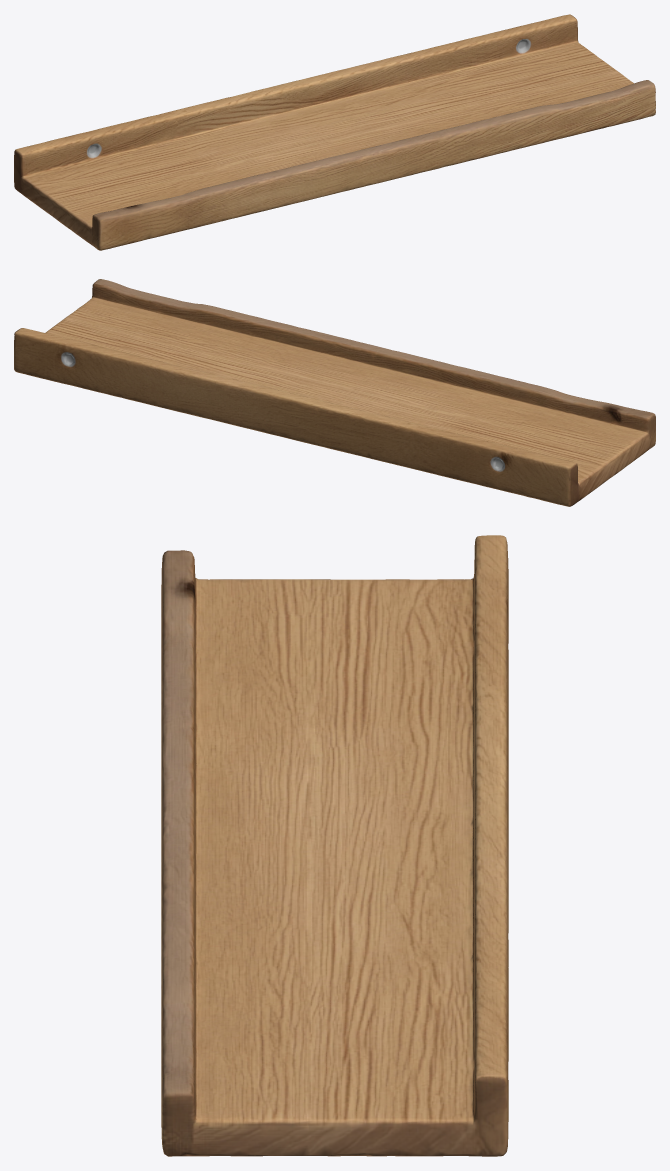
Rendered from regal.glb.
The picture shows the model from 3 angles, top to bottom: view 1: azimuth 30°, elevation 25°; view 2: azimuth 150°, elevation 25°; view 3: azimuth 270°, elevation 25°; orthographic projection. The views are drawn at different scales.
Parts seen in each view (by area): view 1: world; view 2: world; view 3: world.
Part boxes in pixels (x1,y1,x2,y2): world: (14,14,655,250); world: (14,279,655,506); world: (161,535,508,1156).
Bounding box in the file's own units: 1 × 0.0703 × 0.2706.
Materials: 1 (1 with a texture image).
